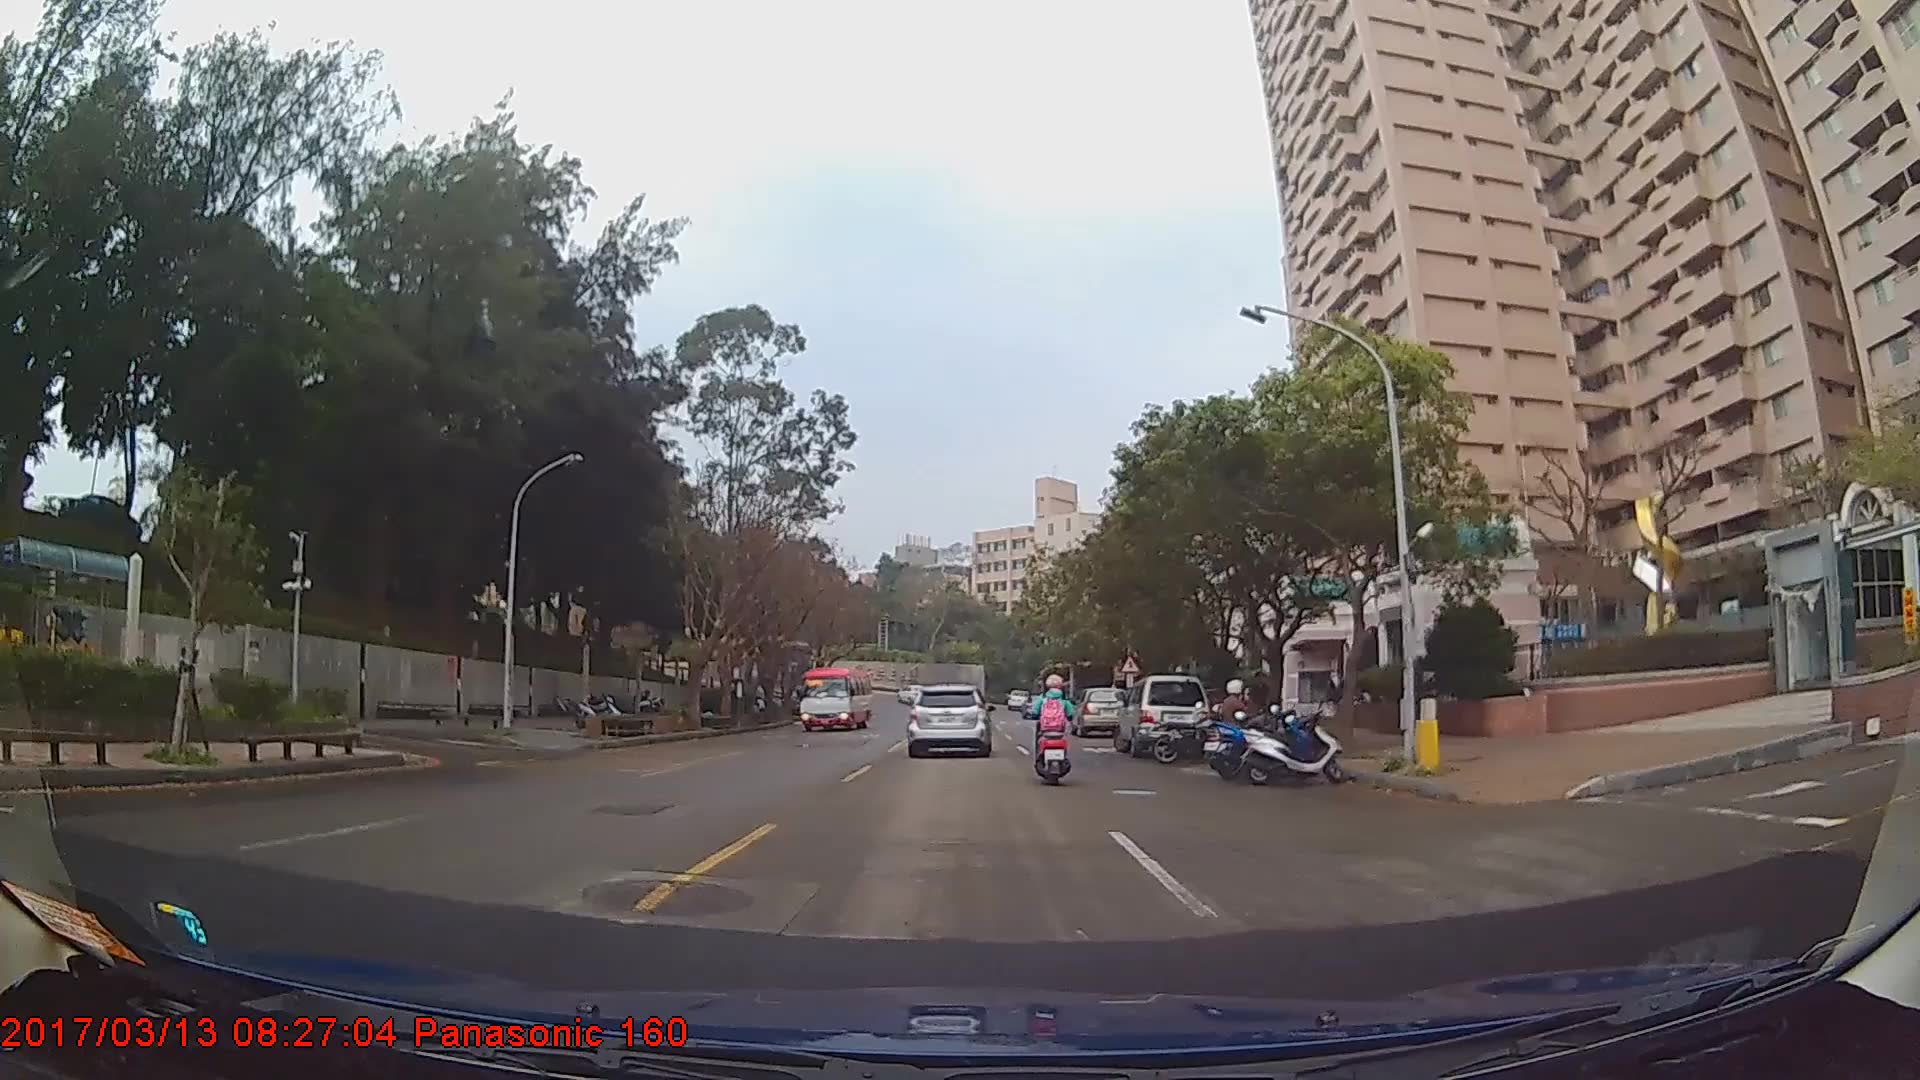rider: (1034, 672, 1083, 791), (1211, 677, 1262, 770)
vehicle: (1113, 673, 1208, 758), (907, 683, 992, 760), (798, 664, 873, 731), (1073, 686, 1129, 737)
